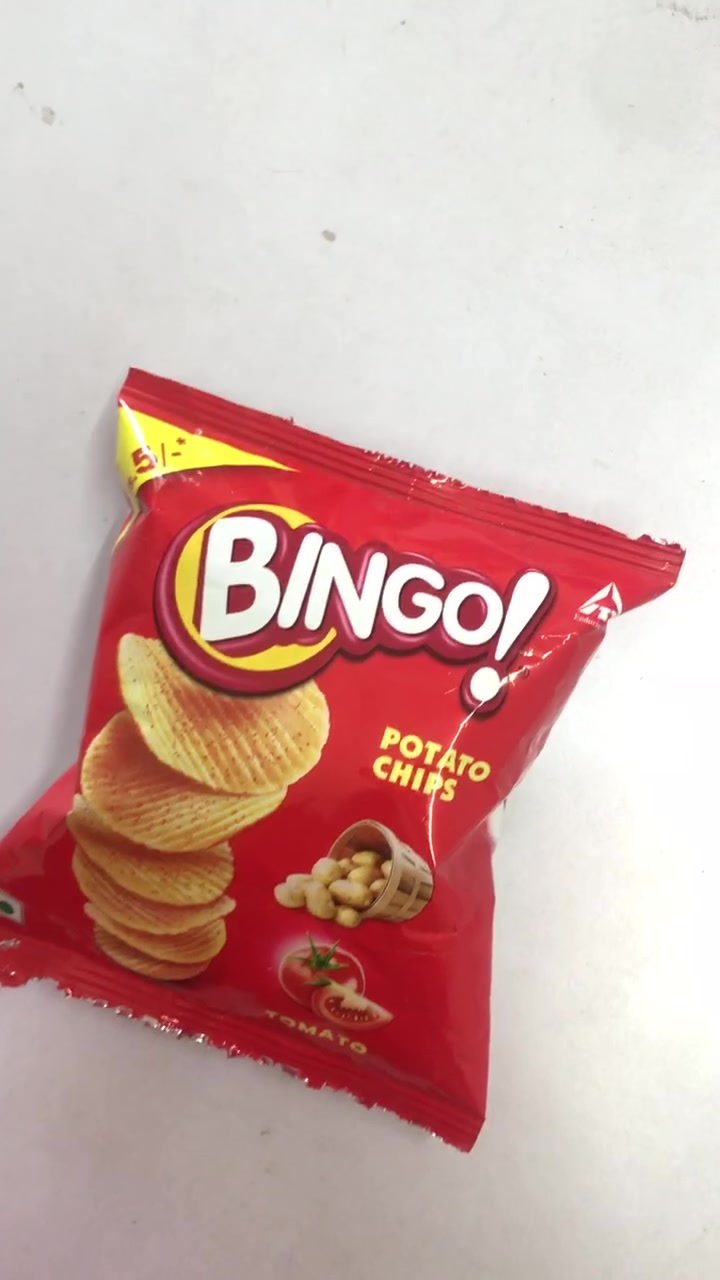Bingo: (5, 378, 685, 1142)
